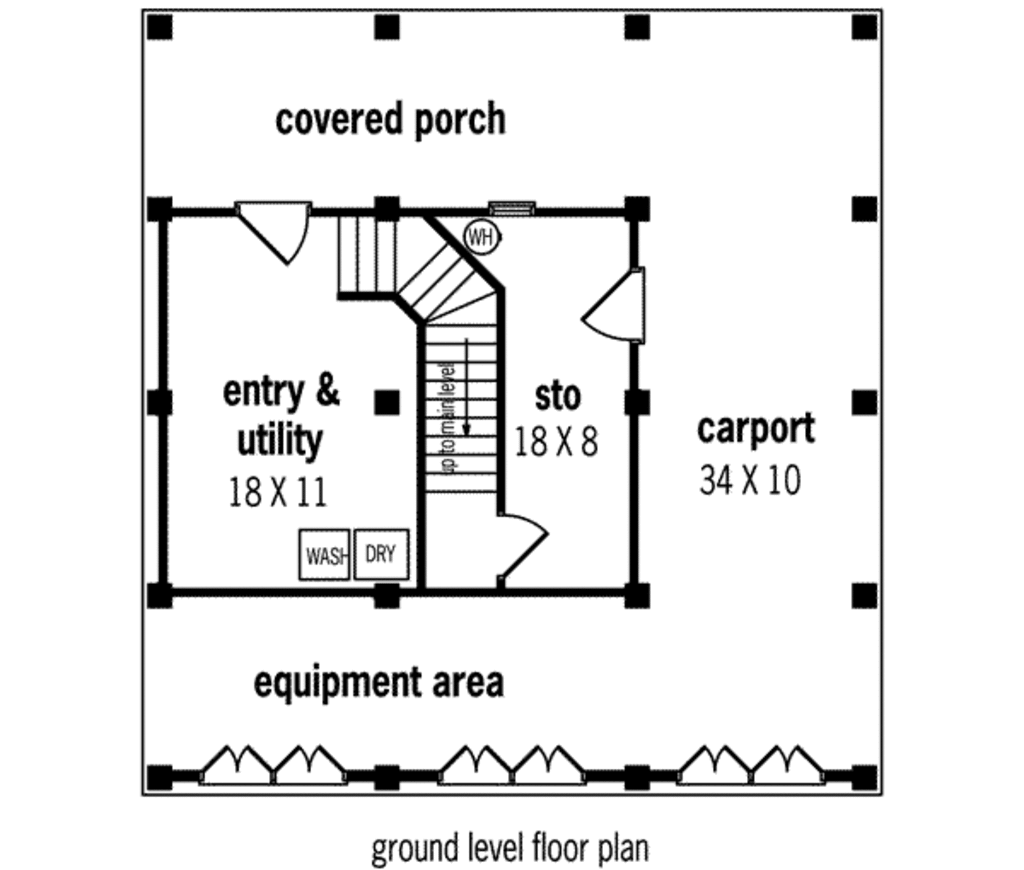door: (577, 265, 650, 349), (233, 199, 307, 267), (496, 509, 549, 578), (437, 745, 511, 783), (674, 740, 744, 779), (274, 740, 343, 777), (514, 744, 580, 782), (754, 740, 821, 777), (203, 743, 269, 773)
stairs: (327, 203, 513, 495)
